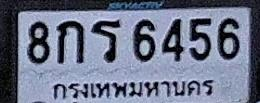4: (162, 18, 183, 61)
5: (189, 18, 211, 60)
6: (218, 18, 240, 60), (133, 19, 155, 61)
8: (27, 21, 49, 64)
A01: (57, 20, 84, 63)
A35: (91, 20, 120, 62)
BKK: (50, 74, 216, 101)
